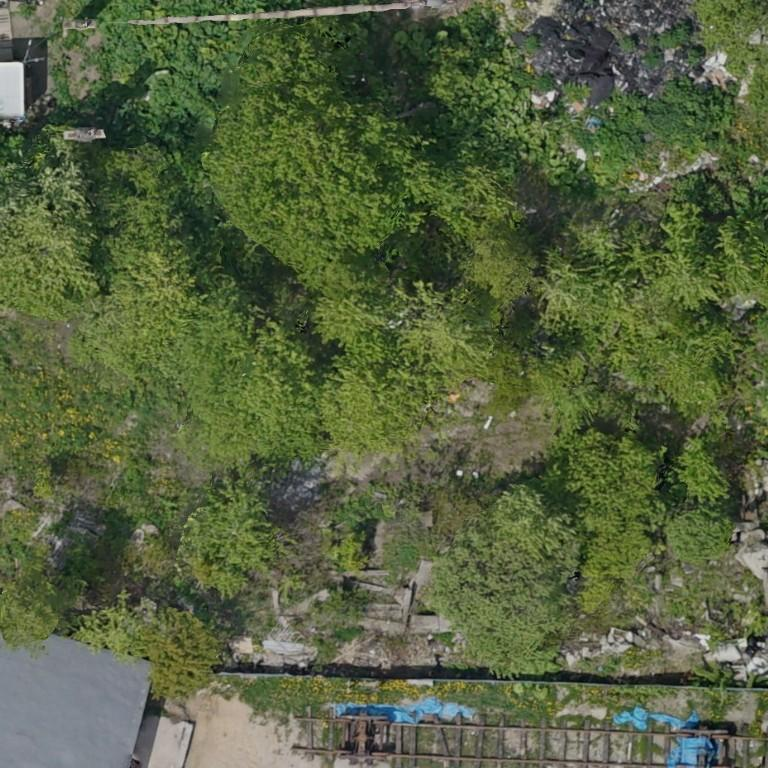hogweed: (575, 78, 733, 179), (659, 24, 690, 47), (621, 37, 635, 51)
